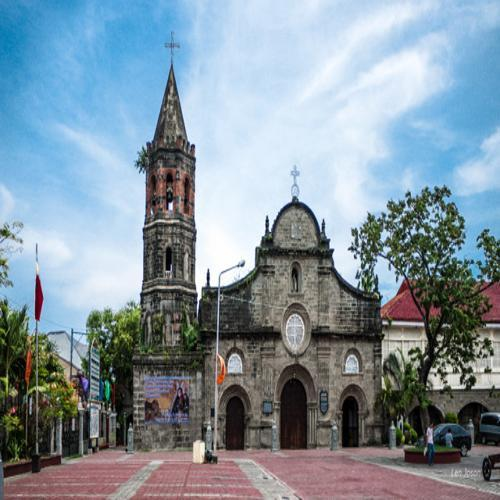Barasoain Church: (122, 20, 386, 452)
